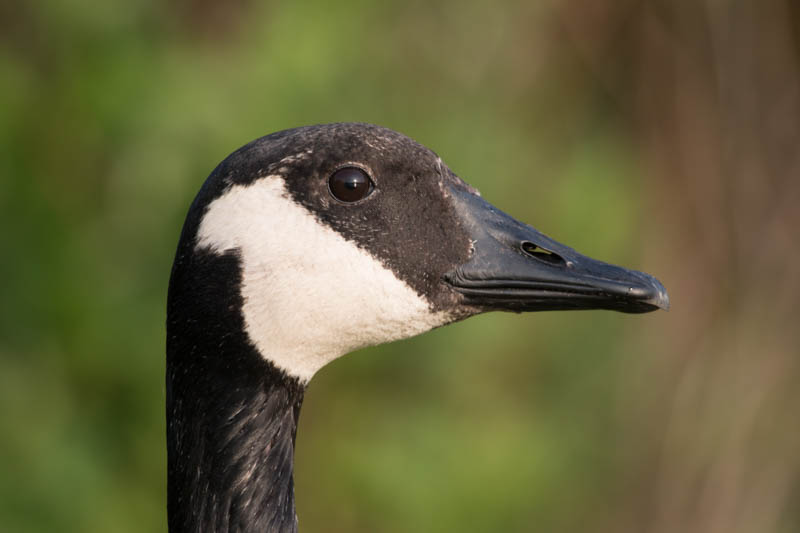goose-head: (166, 122, 671, 391)
